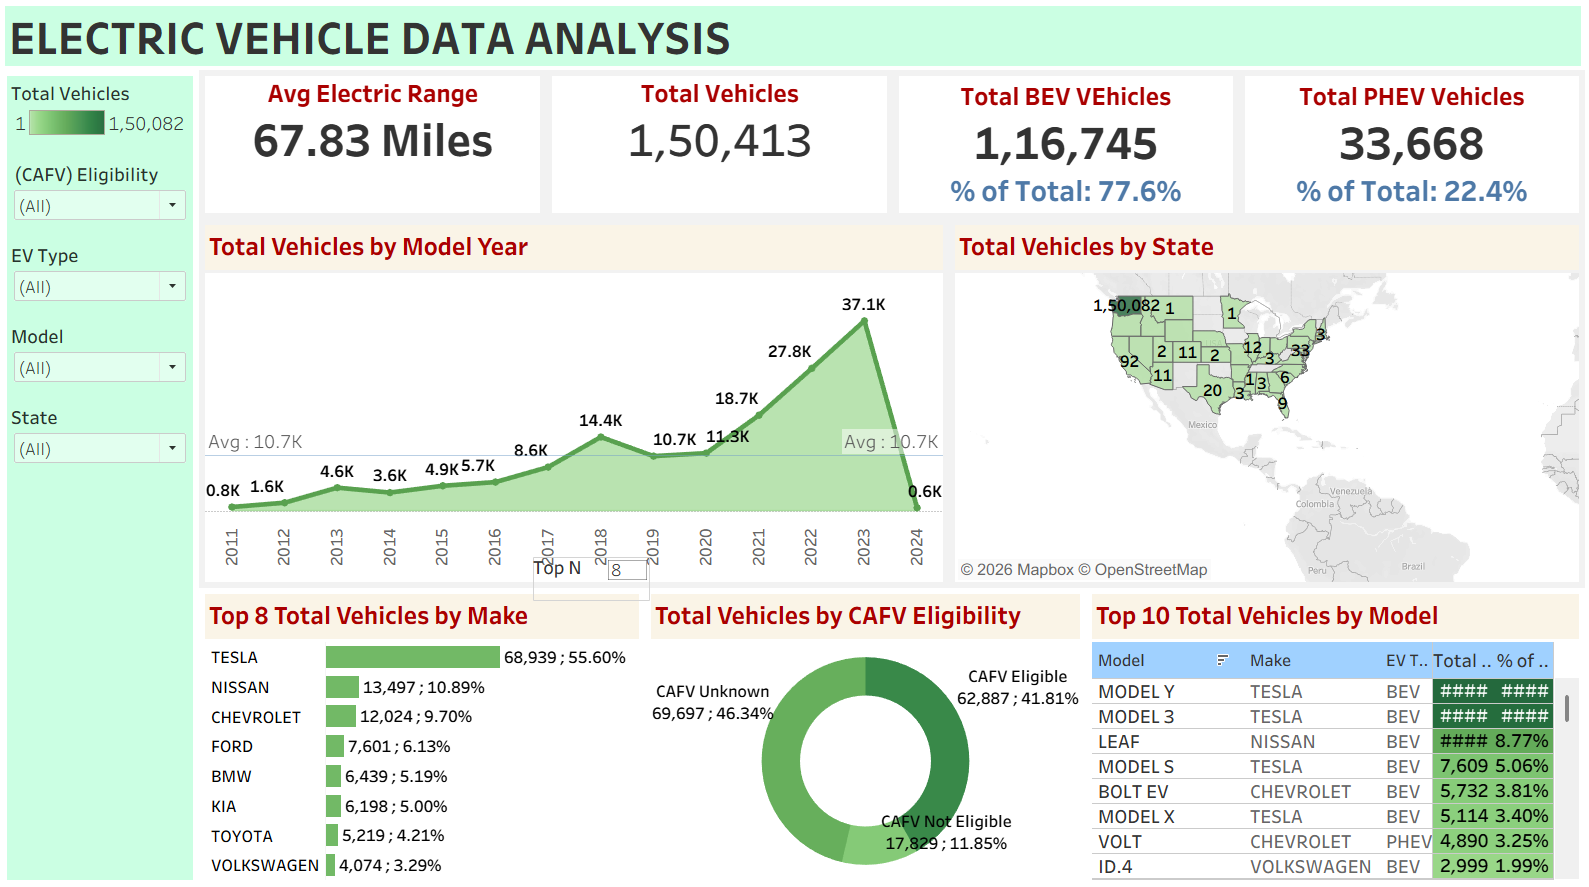

The dashboard page shown, as its layout file describes it:
{"tool":"tableau","page":{"name":"Dashboard 1","canvas":[1600,900],"ordinal":0},"visuals":[{"type":"title","box":[8,8,1584,68]},{"type":"worksheet","title":"Avg Electric Range","mark":"Automatic","box":[206,76,347,149]},{"type":"worksheet","title":"Total Vehicles","mark":"Automatic","box":[553,76,347,149]},{"type":"worksheet","title":"Total BEV Vehicles","mark":"Automatic","box":[900,76,346,149]},{"type":"worksheet","title":"Total PHEV Vehicles ","mark":"Automatic","box":[1246,76,346,149]},{"type":"legend","title":"Total Vehicles by State","param":"[federated.1loi85z14384uc12f6j720tuunwf].[usr:Calculation_2592384554816180224:qk","box":[14,82,186,81]},{"type":"filter","title":"Total Vehicles by Model Year ","param":"[federated.1loi85z14384uc12f6j720tuunwf].[none:Clean Alternative Fuel Vehicle (C","box":[14,163,186,81]},{"type":"worksheet","title":"Total Vehicles by Model Year ","mark":"Area","rows":["Calculation_2592384554816180224","Calculation_2592384554816180224"],"cols":["Model Year"],"box":[206,225,750,369]},{"type":"worksheet","title":"Total Vehicles by State","mark":"Multipolygon","box":[956,225,636,369]},{"type":"filter","title":"Total Vehicles by Model Year ","param":"[federated.1loi85z14384uc12f6j720tuunwf].[none:Electric Vehicle Type:nk]","box":[14,244,186,81]},{"type":"filter","title":"Total Vehicles by Model Year ","param":"[federated.1loi85z14384uc12f6j720tuunwf].[none:Model:nk]","box":[14,325,186,81]},{"type":"filter","title":"Total Vehicles by Model Year ","param":"[federated.1loi85z14384uc12f6j720tuunwf].[none:State:nk]","box":[14,406,186,80]},{"type":"blank","box":[14,486,186,80]},{"type":"parameter","param":"[Parameters].[Parameter 1]","box":[540,563,117,44]},{"type":"blank","box":[14,566,186,80]},{"type":"worksheet","title":"Top 10 Total Vehicles by Make","mark":"Automatic","rows":["Make"],"cols":["Calculation_2592384554816180224"],"box":[206,594,446,298]},{"type":"worksheet","title":"Total Vehicles by CAFV Eligibility","mark":"Pie","rows":["Calculation_2592384554888712200","Calculation_2592384554888712200"],"box":[652,594,441,298]},{"type":"worksheet","title":"Top 10 Total Vehicles by Model","mark":"Square","rows":["Model","Make","Electric Vehicle Type"],"box":[1093,594,499,298]},{"type":"blank","box":[14,646,186,80]},{"type":"blank","box":[14,726,186,80]},{"type":"blank","box":[14,806,186,80]}]}

Visuals, with their boxes in screenshot pixels (x1, y1, x2, y2), scaled from the page's 1600x900 canvas onto the 1589x887 screenshot:
title: box=[8, 8, 1581, 75]
"Avg Electric Range" worksheet: box=[205, 75, 549, 222]
"Total Vehicles" worksheet: box=[549, 75, 894, 222]
"Total BEV Vehicles" worksheet: box=[894, 75, 1237, 222]
"Total PHEV Vehicles " worksheet: box=[1237, 75, 1581, 222]
"Total Vehicles by State" legend: box=[14, 81, 199, 161]
"Total Vehicles by Model Year " filter: box=[14, 161, 199, 240]
"Total Vehicles by Model Year " worksheet (Area marks): box=[205, 222, 949, 585]
"Total Vehicles by State" worksheet (Multipolygon marks): box=[949, 222, 1581, 585]
"Total Vehicles by Model Year " filter: box=[14, 240, 199, 320]
"Total Vehicles by Model Year " filter: box=[14, 320, 199, 400]
"Total Vehicles by Model Year " filter: box=[14, 400, 199, 479]
blank: box=[14, 479, 199, 558]
parameter: box=[536, 555, 652, 598]
blank: box=[14, 558, 199, 637]
"Top 10 Total Vehicles by Make" worksheet: box=[205, 585, 648, 879]
"Total Vehicles by CAFV Eligibility" worksheet (Pie marks): box=[648, 585, 1085, 879]
"Top 10 Total Vehicles by Model" worksheet (Square marks): box=[1085, 585, 1581, 879]
blank: box=[14, 637, 199, 716]
blank: box=[14, 716, 199, 794]
blank: box=[14, 794, 199, 873]
